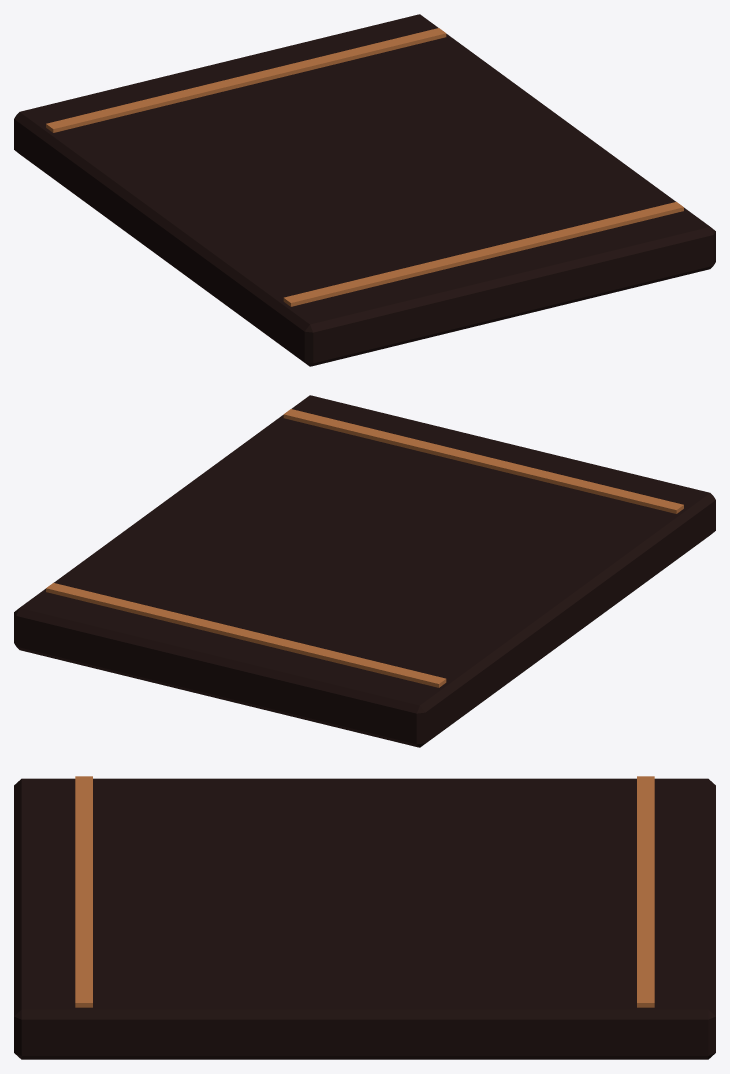
The model's file is Deck_S_Frag_plate_c.glb.
The picture shows the model from 3 angles, top to bottom: view 1: azimuth 30°, elevation 25°; view 2: azimuth 150°, elevation 25°; view 3: azimuth 270°, elevation 25°; orthographic projection. The views are drawn at different scales.
Visible parts, largest first — view 1: CP_Deck_S_Frag_plate_c; view 2: CP_Deck_S_Frag_plate_c; view 3: CP_Deck_S_Frag_plate_c.
Part boxes in pixels (x1=…): CP_Deck_S_Frag_plate_c: x1=14, y1=14, x2=715, y2=366; CP_Deck_S_Frag_plate_c: x1=14, y1=395, x2=715, y2=747; CP_Deck_S_Frag_plate_c: x1=14, y1=776, x2=715, y2=1059.
Bounding box in the file's own units: 2.24 × 0.24 × 2.8.
